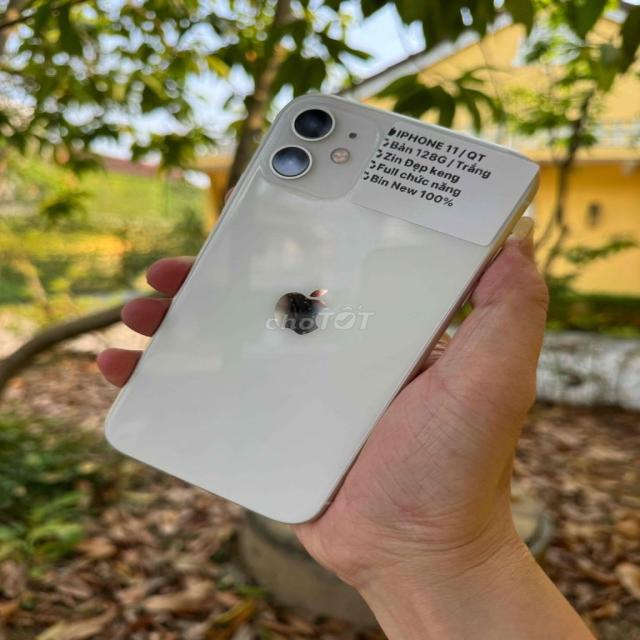gen_11: (99, 83, 546, 523)
